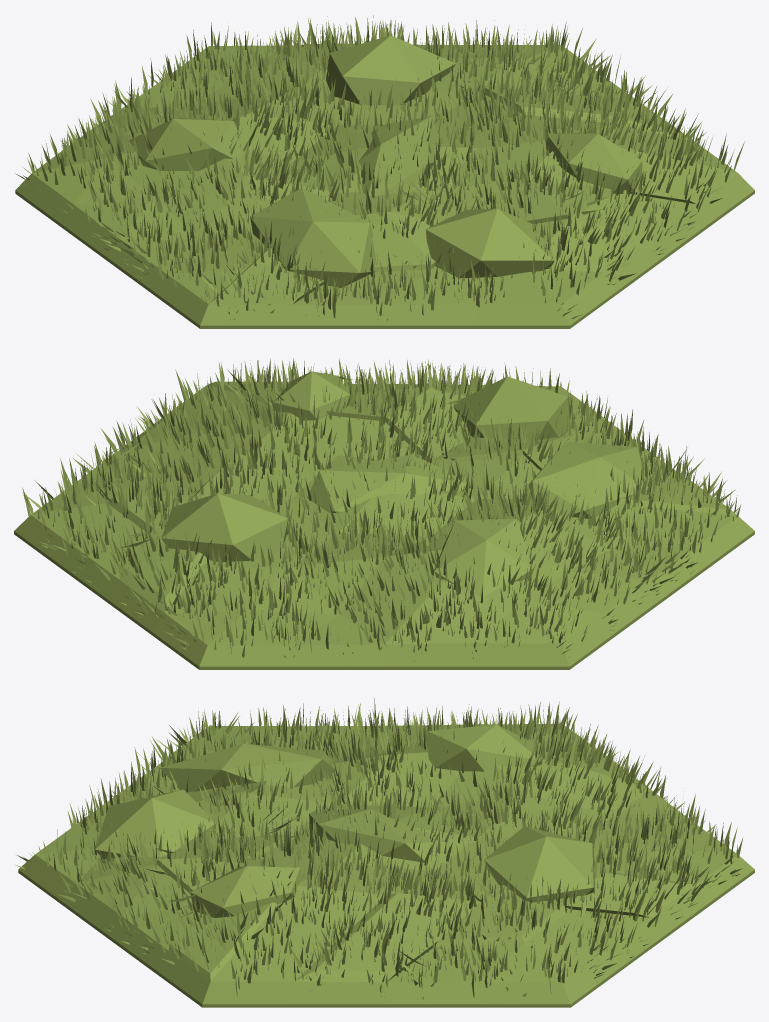
The model's file is grassland.glb.
3 renders of one model, top to bottom at view 1: azimuth 30°, elevation 25°; view 2: azimuth 150°, elevation 25°; view 3: azimuth 270°, elevation 25°, orthographic.
Parts seen in each view (by area): view 1: grassland; view 2: grassland; view 3: grassland.
Boxes of the visible parts, x1,y1,x2,y2 form: grassland: [15, 15, 754, 328]; grassland: [14, 358, 754, 669]; grassland: [15, 698, 754, 1007].
Bounding box in the file's own units: 1.81 × 0.2795 × 2.01.
